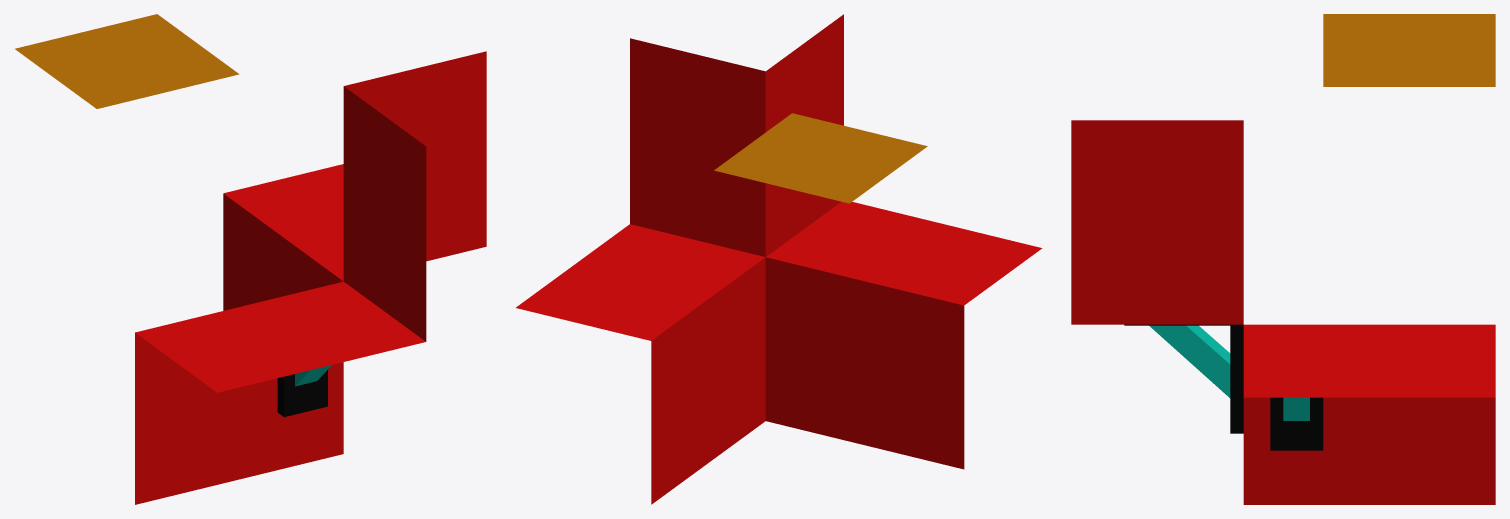
3 views of the same model, side by side, from view 1: azimuth 30°, elevation 25°; view 2: azimuth 150°, elevation 25°; view 3: azimuth 270°, elevation 25° (orthographic). The views are drawn at different scales.
Visible parts, largest first — view 1: None_E_E_A_E_S_E_E_A_None; view 2: None_E_E_A_E_S_E_E_A_None; view 3: None_E_E_A_E_S_E_E_A_None.
Boxes of the visible parts, bbox=[...] form: None_E_E_A_E_S_E_E_A_None: bbox=[15, 14, 486, 504]; None_E_E_A_E_S_E_E_A_None: bbox=[516, 14, 1042, 504]; None_E_E_A_E_S_E_E_A_None: bbox=[1071, 14, 1495, 504].
Size of the model in its own units: 100 by 100 by 100.
